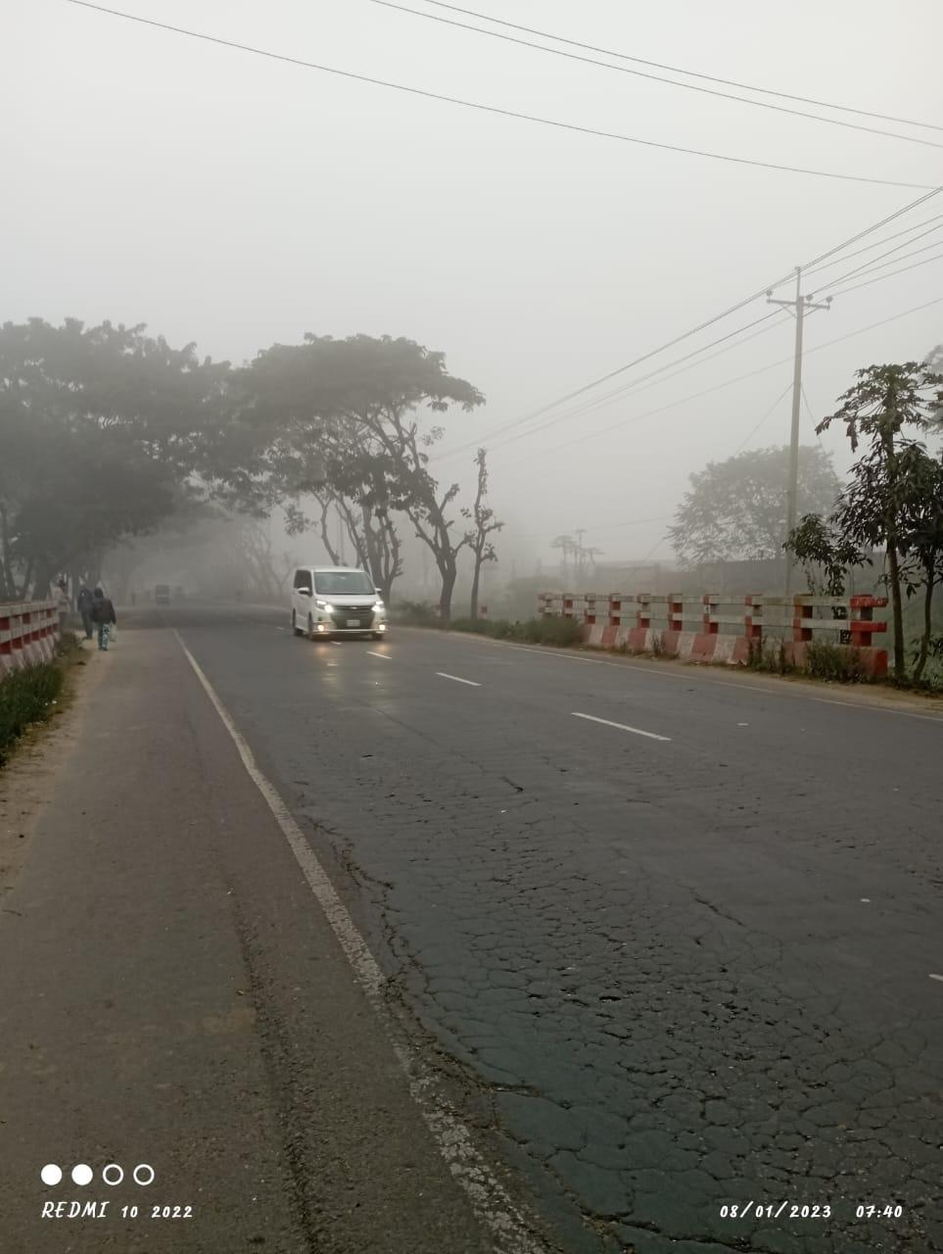Car: (280, 553, 403, 651)
